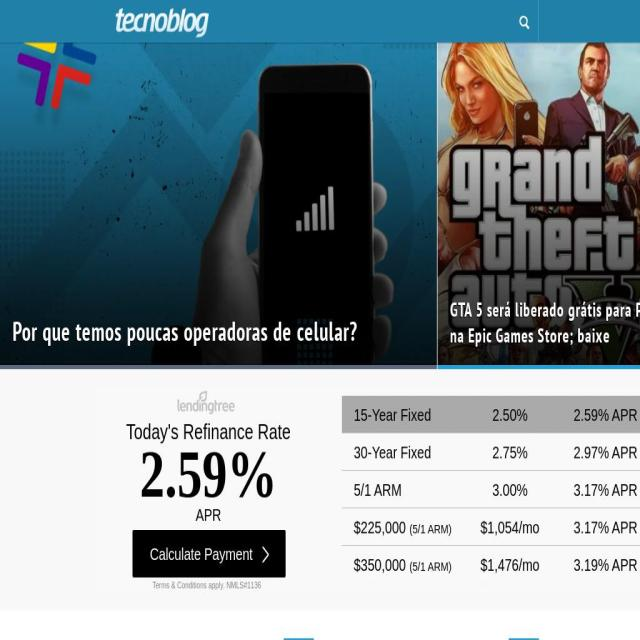button: (284, 638, 314, 640), (509, 638, 539, 640)
heading: (12, 314, 358, 348), (450, 297, 640, 348)
iframe: (92, 386, 640, 594)
image: (0, 42, 437, 365), (437, 41, 640, 365), (114, 7, 210, 38), (520, 16, 530, 29)
